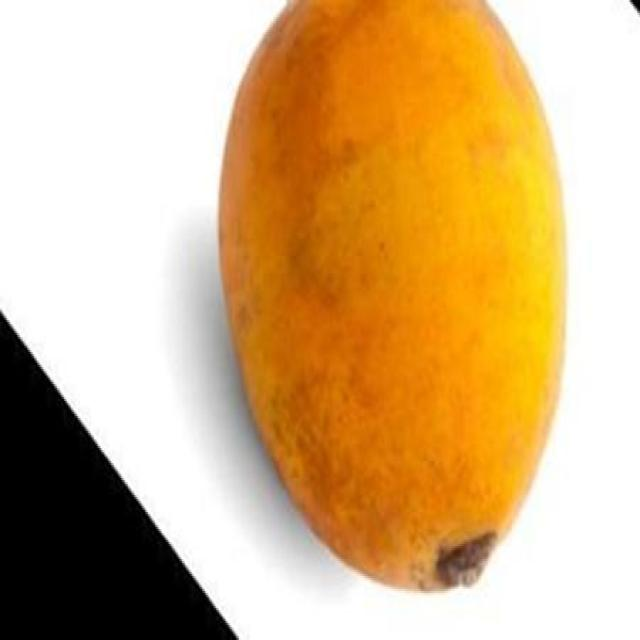good: (216, 0, 567, 591)
